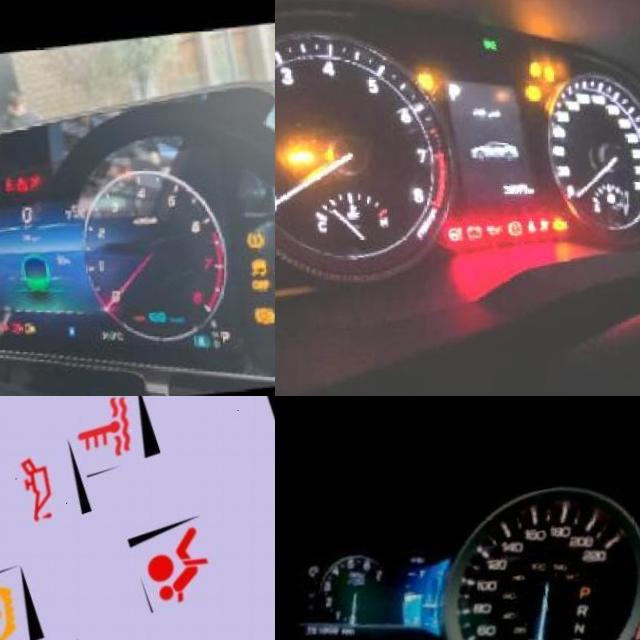Seat Belt: (6, 173, 20, 190), (518, 213, 529, 227)
